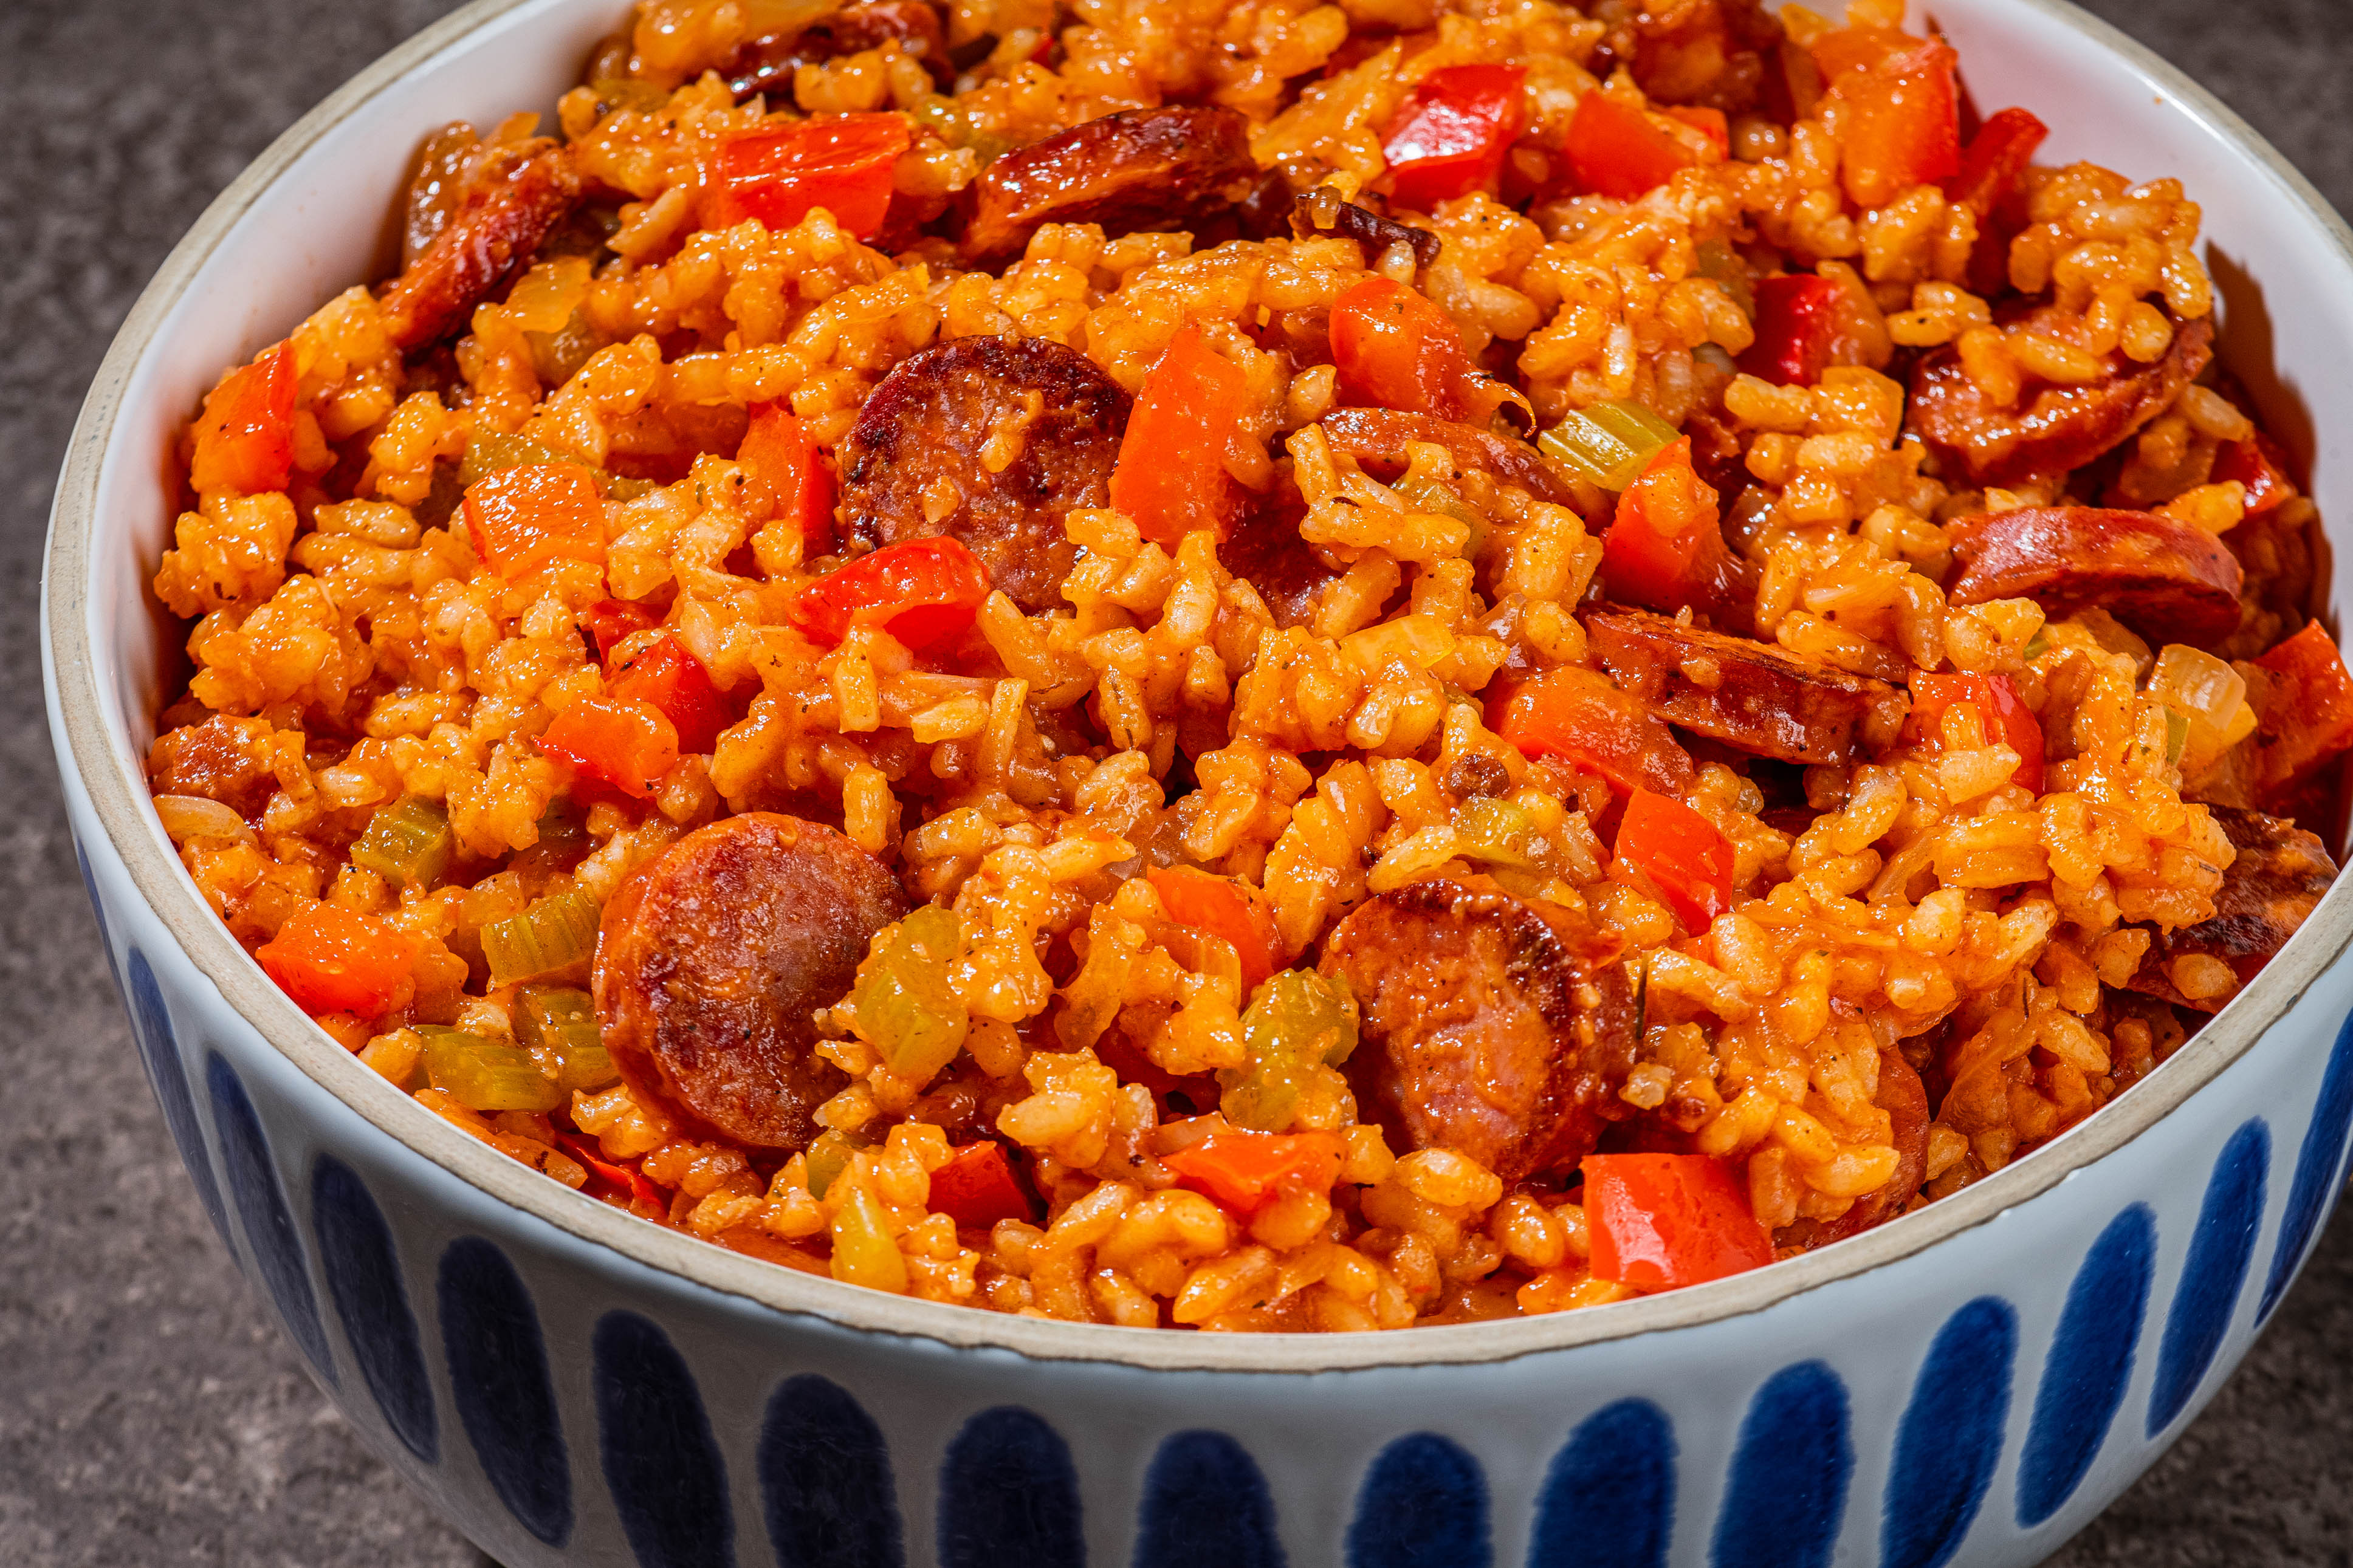Nasi Merah: (19, 10, 2353, 1481)
